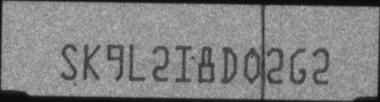2: (266, 46, 284, 85), (151, 44, 169, 82), (312, 47, 329, 84)
8: (197, 44, 215, 83)
9: (106, 43, 124, 82)
D: (219, 46, 238, 83)
G: (289, 46, 307, 85)
I: (174, 44, 191, 82)
K: (83, 41, 100, 80)
L: (128, 43, 146, 82)
O: (243, 48, 261, 84)
S: (58, 44, 79, 80)
